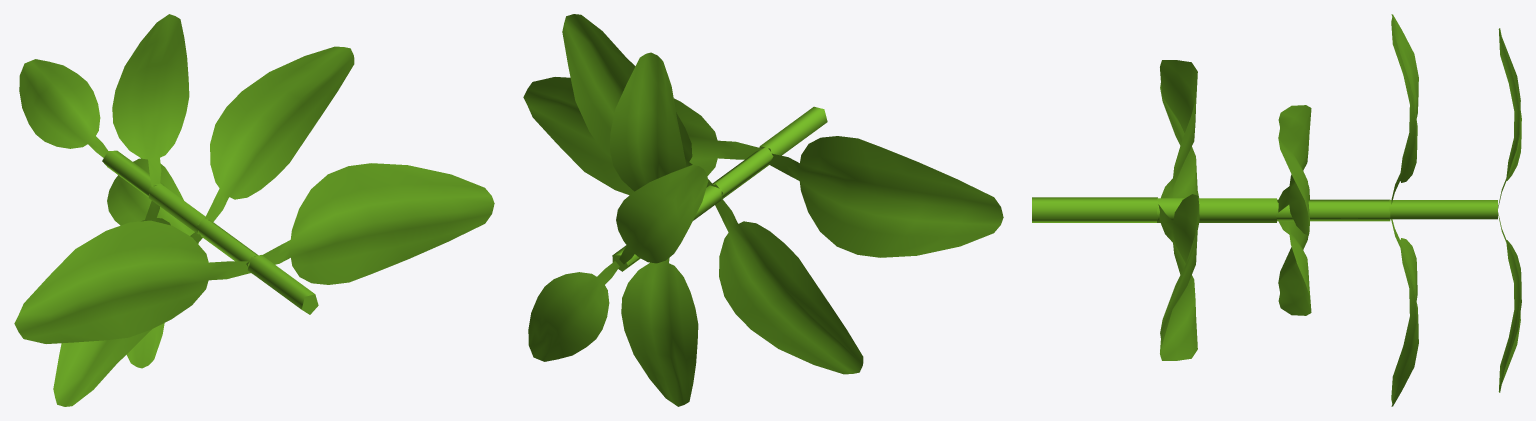
3 renders of one model, left to right at view 1: azimuth 30°, elevation 25°; view 2: azimuth 150°, elevation 25°; view 3: azimuth 270°, elevation 25°, orthographic. The views are drawn at different scales.
Visible parts, largest first — view 1: Root; view 2: Root; view 3: Root.
Part boxes in pixels (x1,y1,x2,y2): Root: (14,14,494,406); Root: (523,14,1003,406); Root: (1032,14,1521,406).
Size of the model in its own units: 3 by 2.08 by 2.27.
